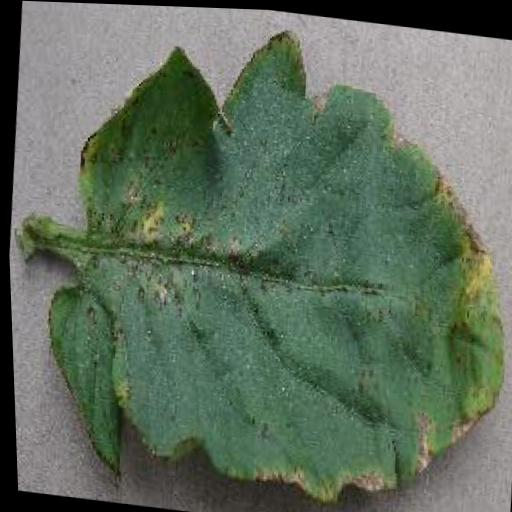Bacterial Spot: (16, 0, 512, 512)
